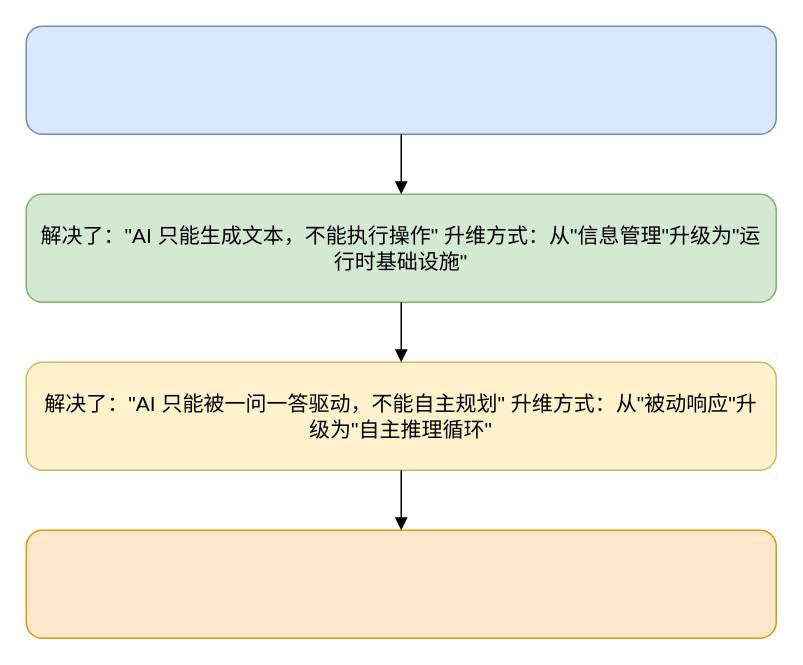
Image size: 803x665. Some labels were removed from this diagram. Each missing label, with the centre of its shape:
解决了："AI 不知道背景信息" 升维方式：从"写指令"升级为"设计信息环境": point (400, 79)
解决了："AI 的决策过程是一个黑箱，无法审计和恢复" 升维方式：从"线性循环"升级为"可编排的状态图": point (400, 583)
